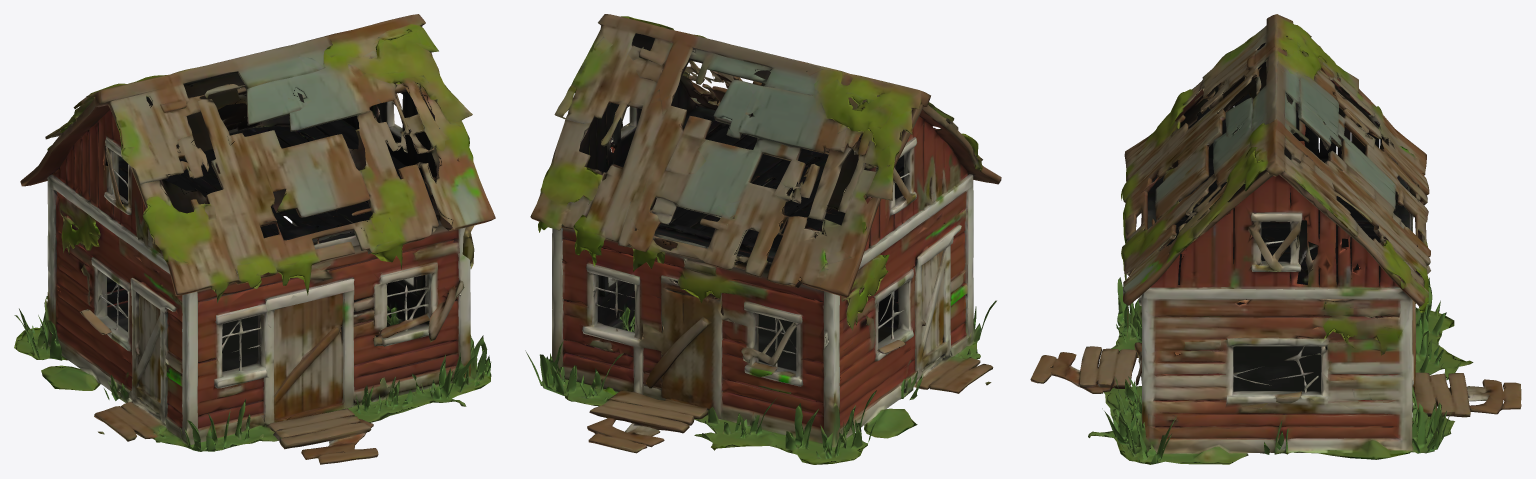
Rendered from 2daa5b1d-0479-4959-bb79-6a9c85428190.glb.
The picture shows the model from 3 angles, left to right: view 1: azimuth 30°, elevation 25°; view 2: azimuth 150°, elevation 25°; view 3: azimuth 270°, elevation 25°; orthographic projection. The views are drawn at different scales.
Visible parts, largest first — view 1: world; view 2: world; view 3: world.
Boxes of the visible parts, x1,y1,x2,y2 form: world: (14,14,495,464); world: (525,14,1001,464); world: (1030,14,1521,464).
Size of the model in its own units: 0.8265 by 0.6892 by 1.
1 material, 1 textured.
